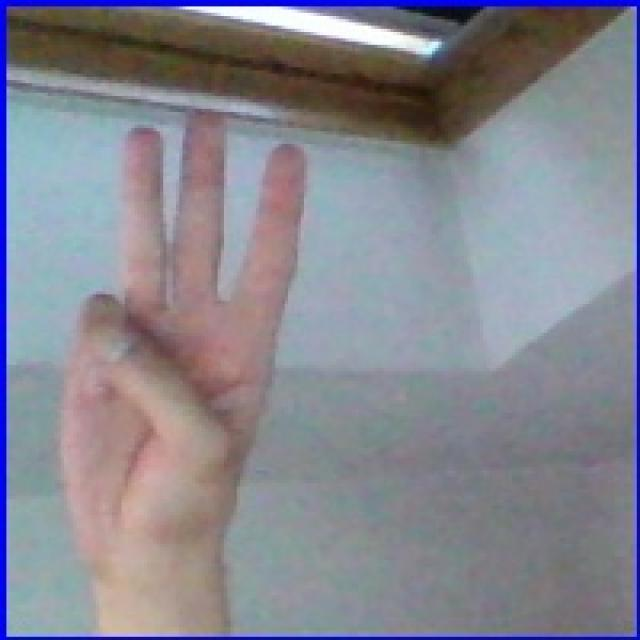Letra-W: (27, 98, 333, 581)
